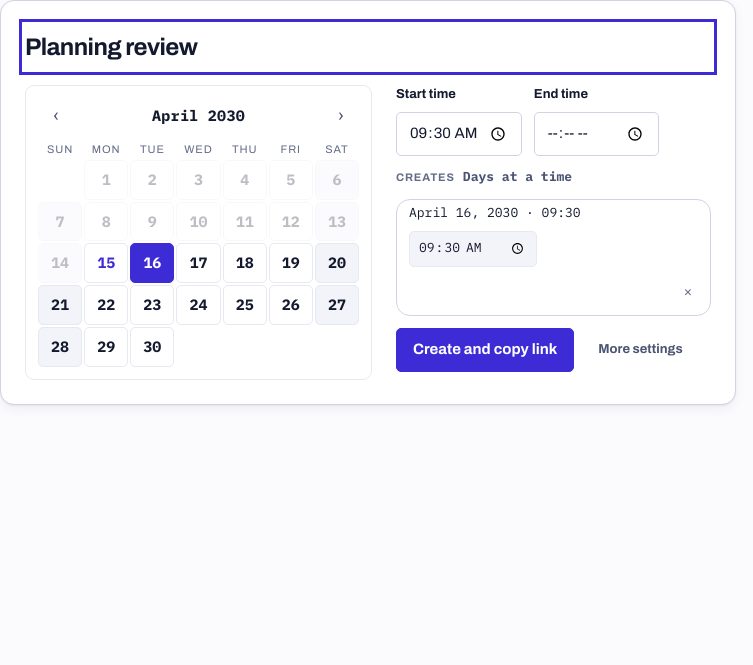
Test: AppointmentComposer submission › shares the created link, copies it, and resets the composition
The width and height of the screenshot is (753, 665).
Click the button "Create and copy link" at (485, 350), box [396,328,574,372]
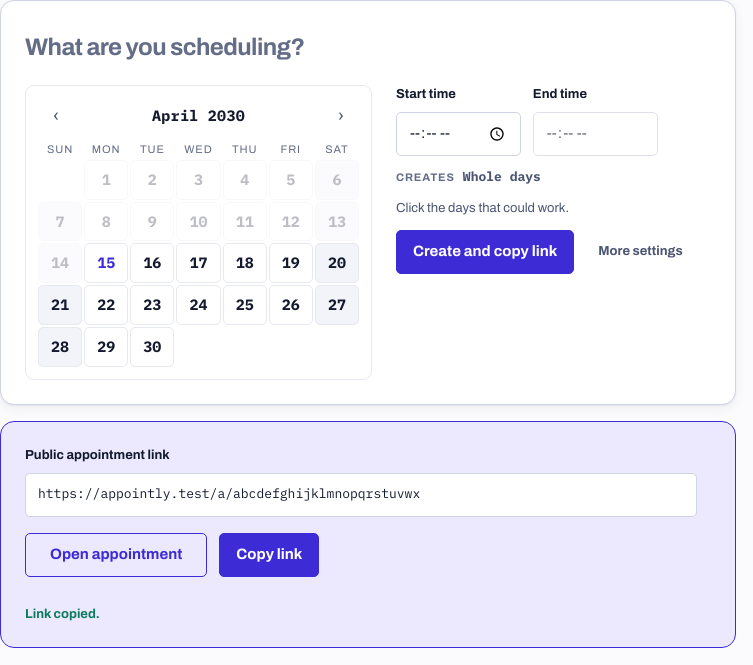
Result: the message "Link copied." is shown at [25,606,100,620]
